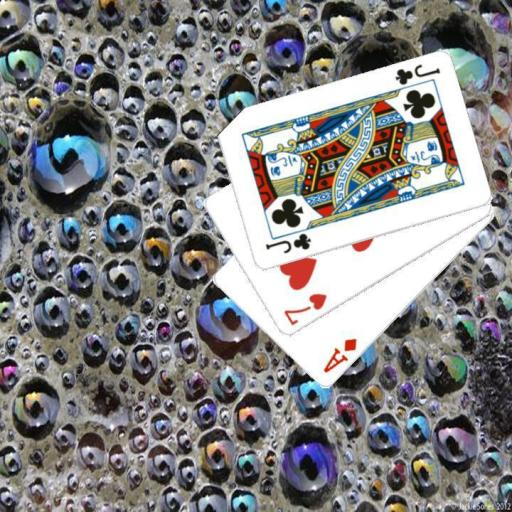card-corner: (280, 290, 329, 328), (320, 335, 358, 375), (391, 61, 442, 88), (262, 230, 312, 256)
